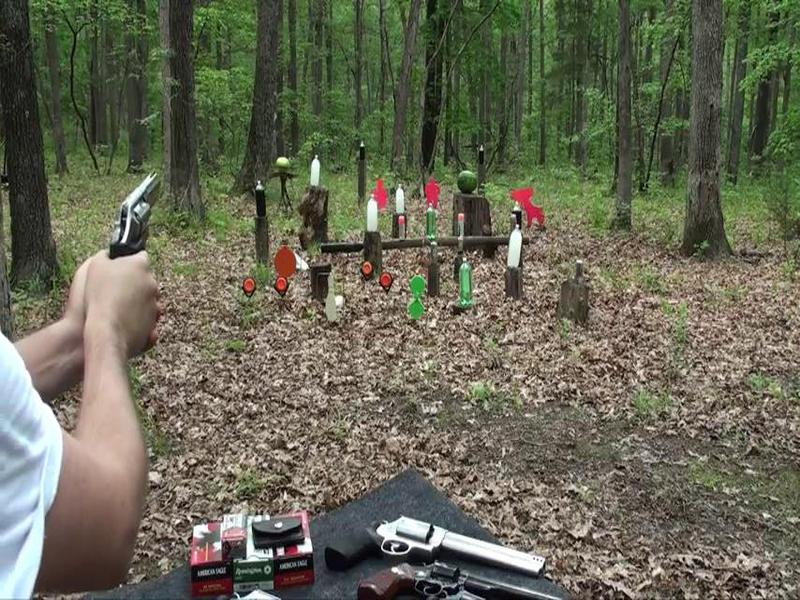Revolver: (97, 157, 179, 259)
